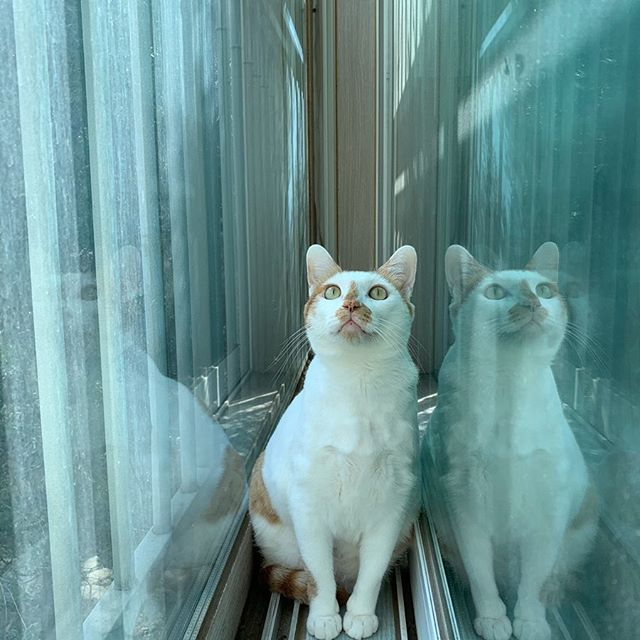cat: (302, 240, 427, 365)
